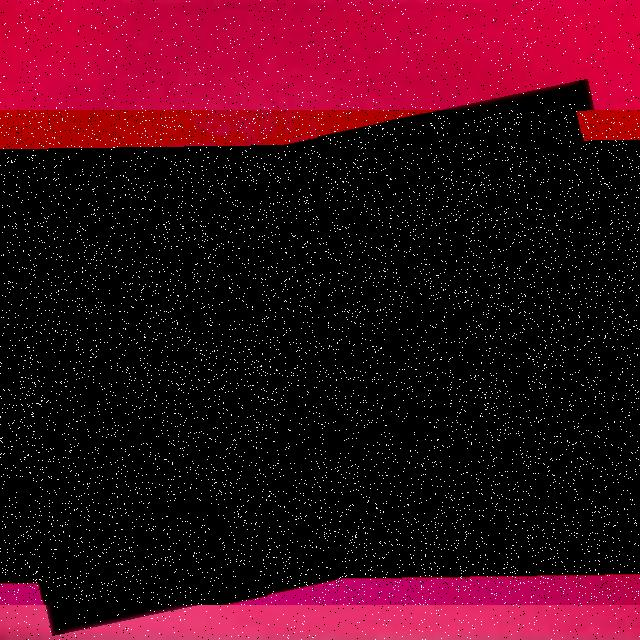dua ribu rupiah: (0, 110, 640, 605)
